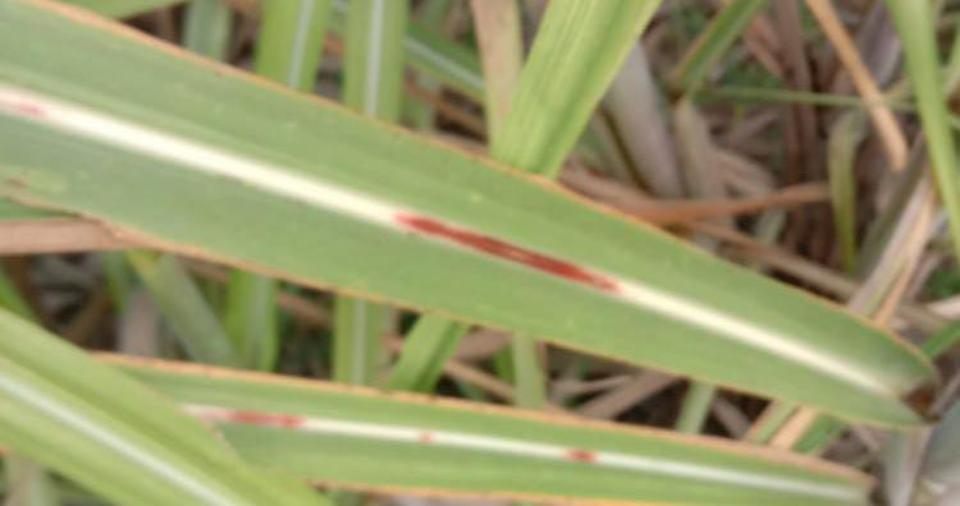RedRot: (392, 213, 619, 294), (213, 410, 308, 427), (1, 99, 53, 120), (563, 449, 596, 463), (416, 430, 435, 446)
Yellow: (23, 0, 704, 251), (87, 350, 875, 489), (0, 189, 513, 336), (303, 480, 654, 506)
